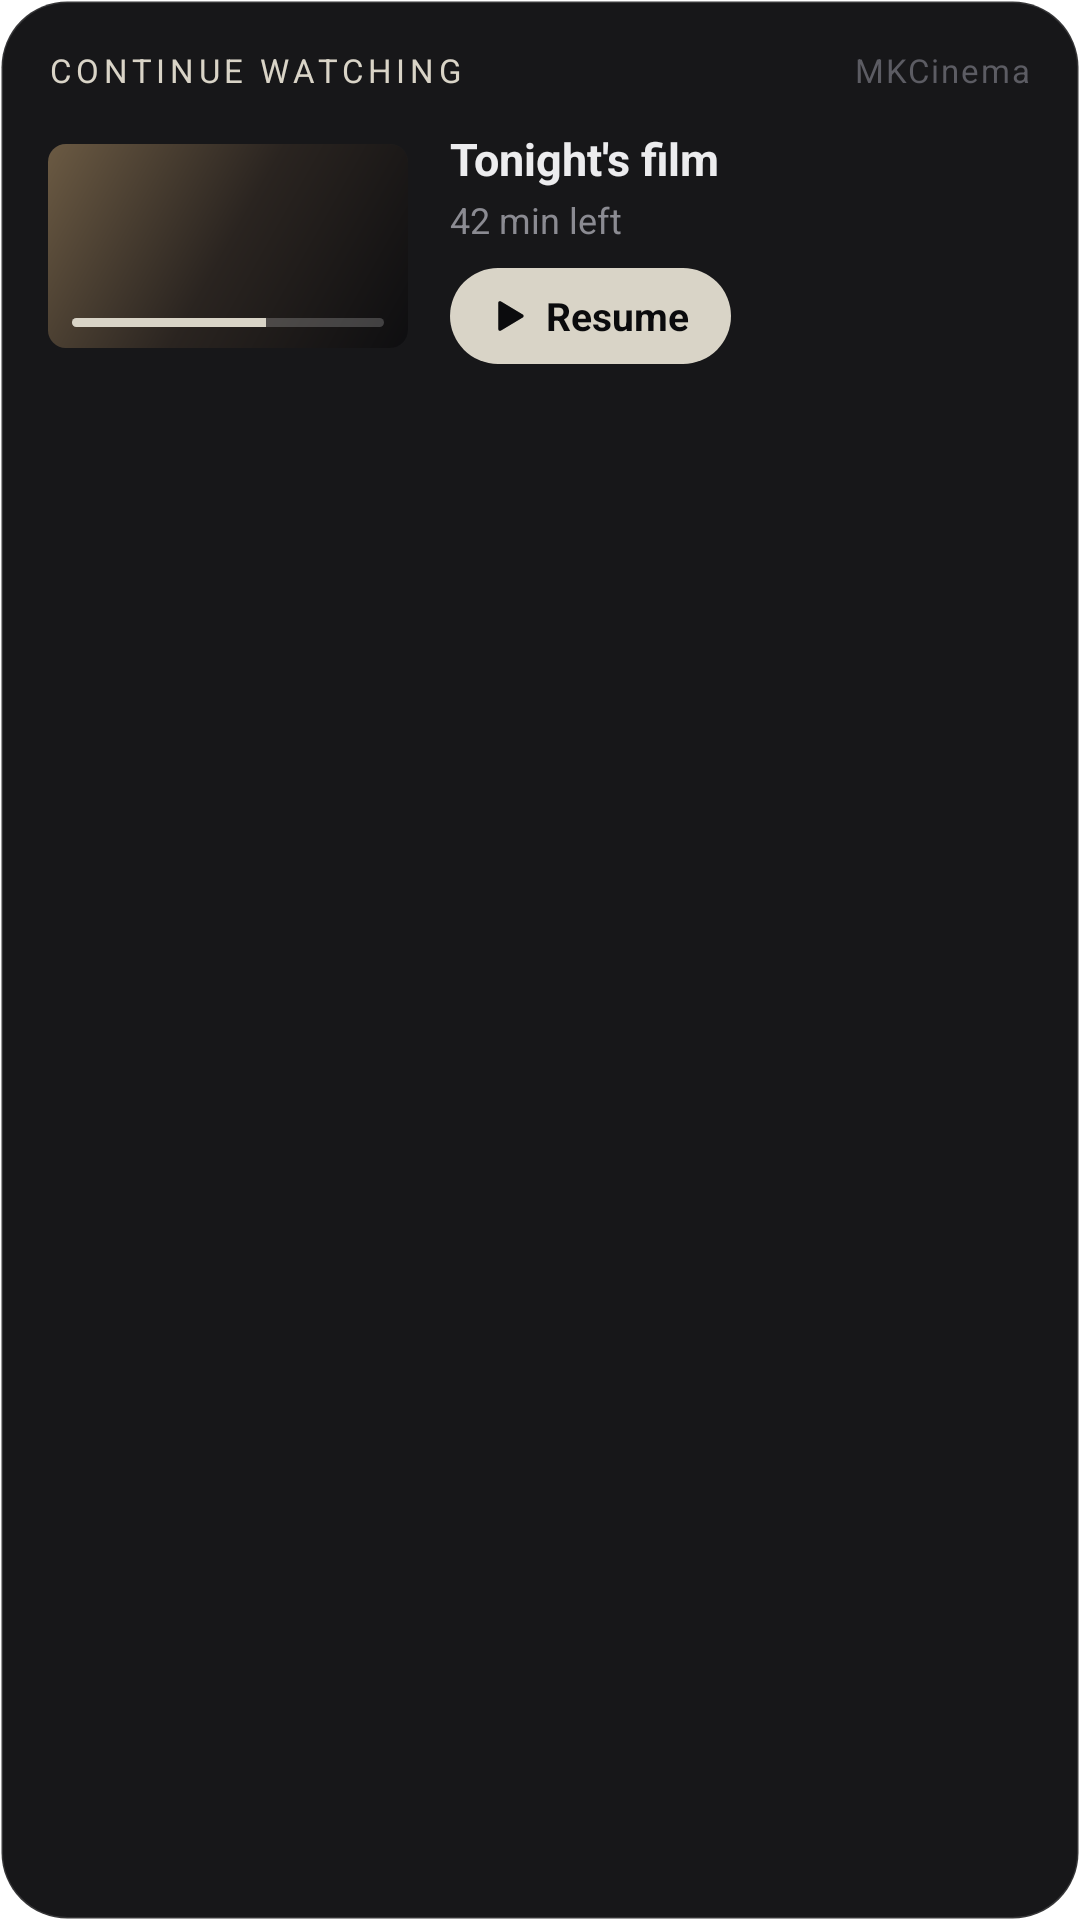

Where to tap for icons on this 1080px×1920px app screen, as (x,y):
widget play: (511,316)
